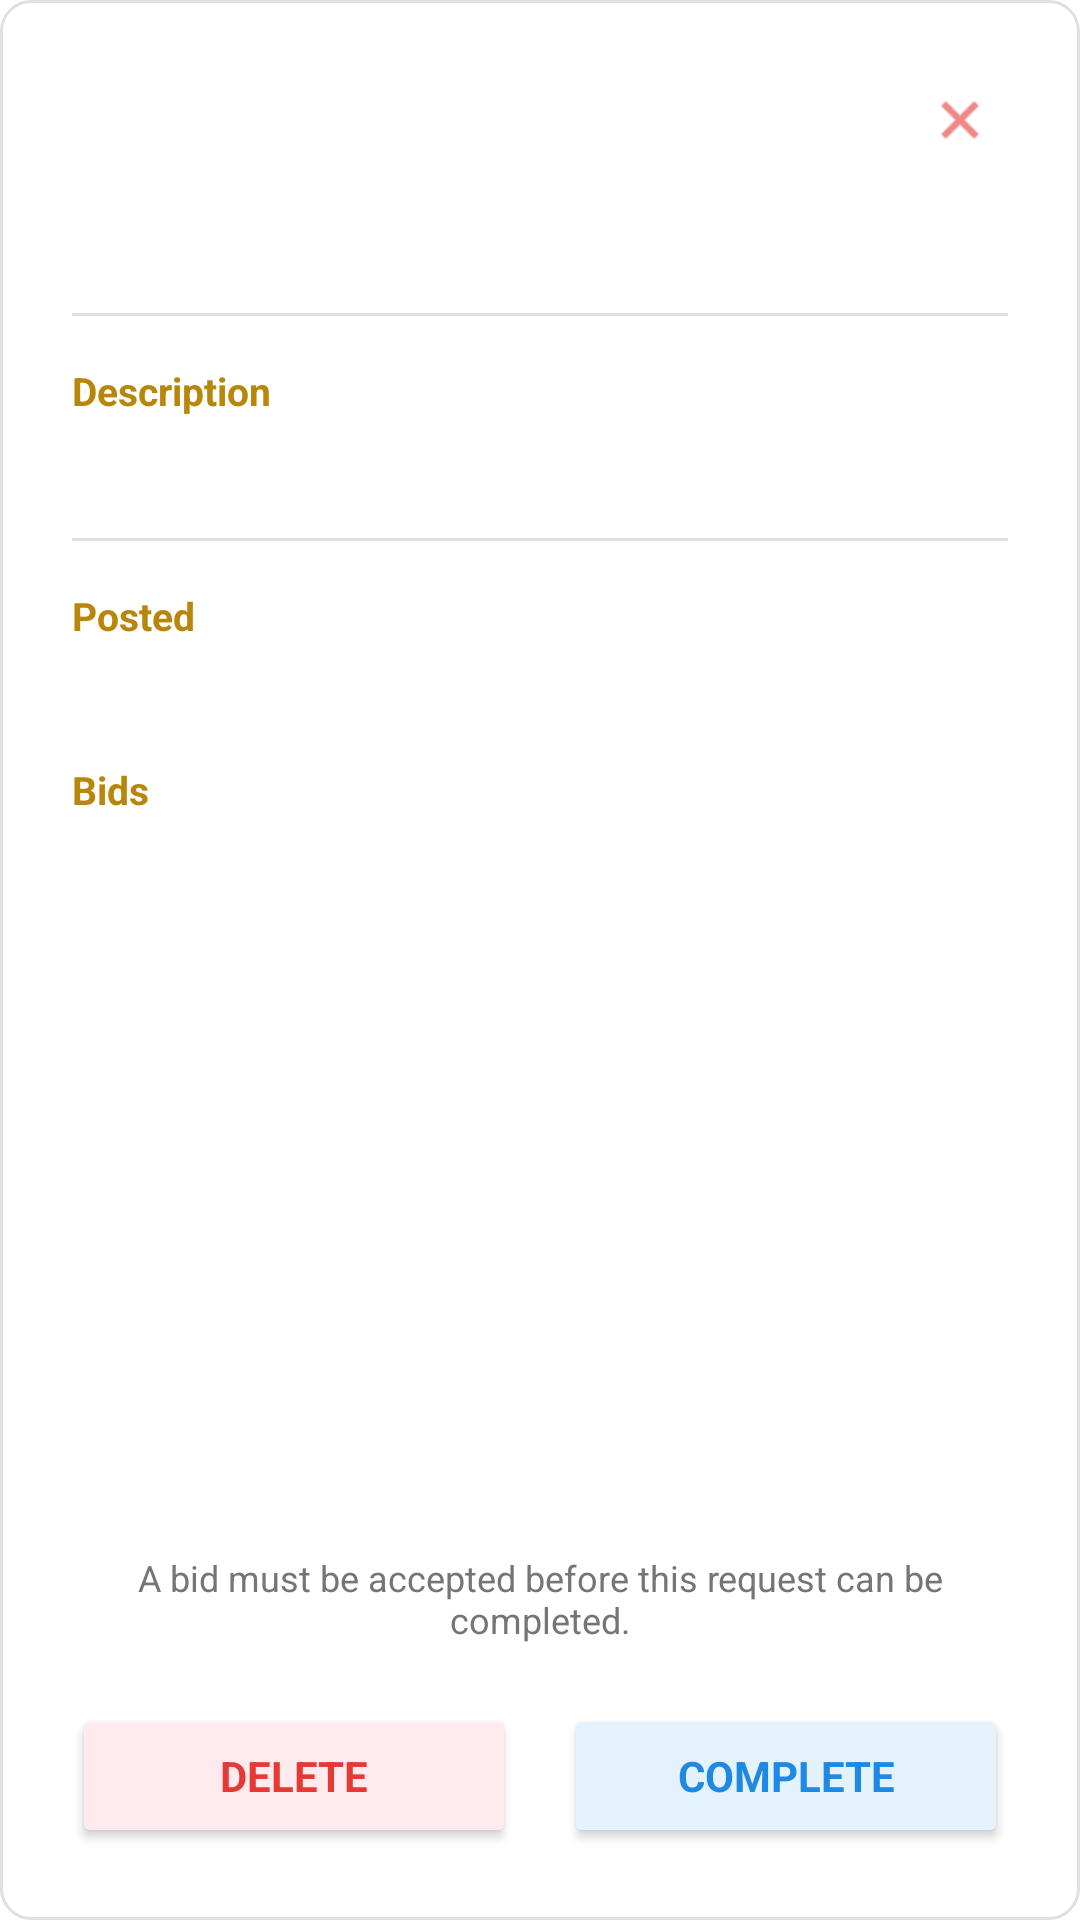

Screen size 1080x1920. Icon name, then its center in pixels as (x=x, y=y):
Close: (x=960, y=120)
